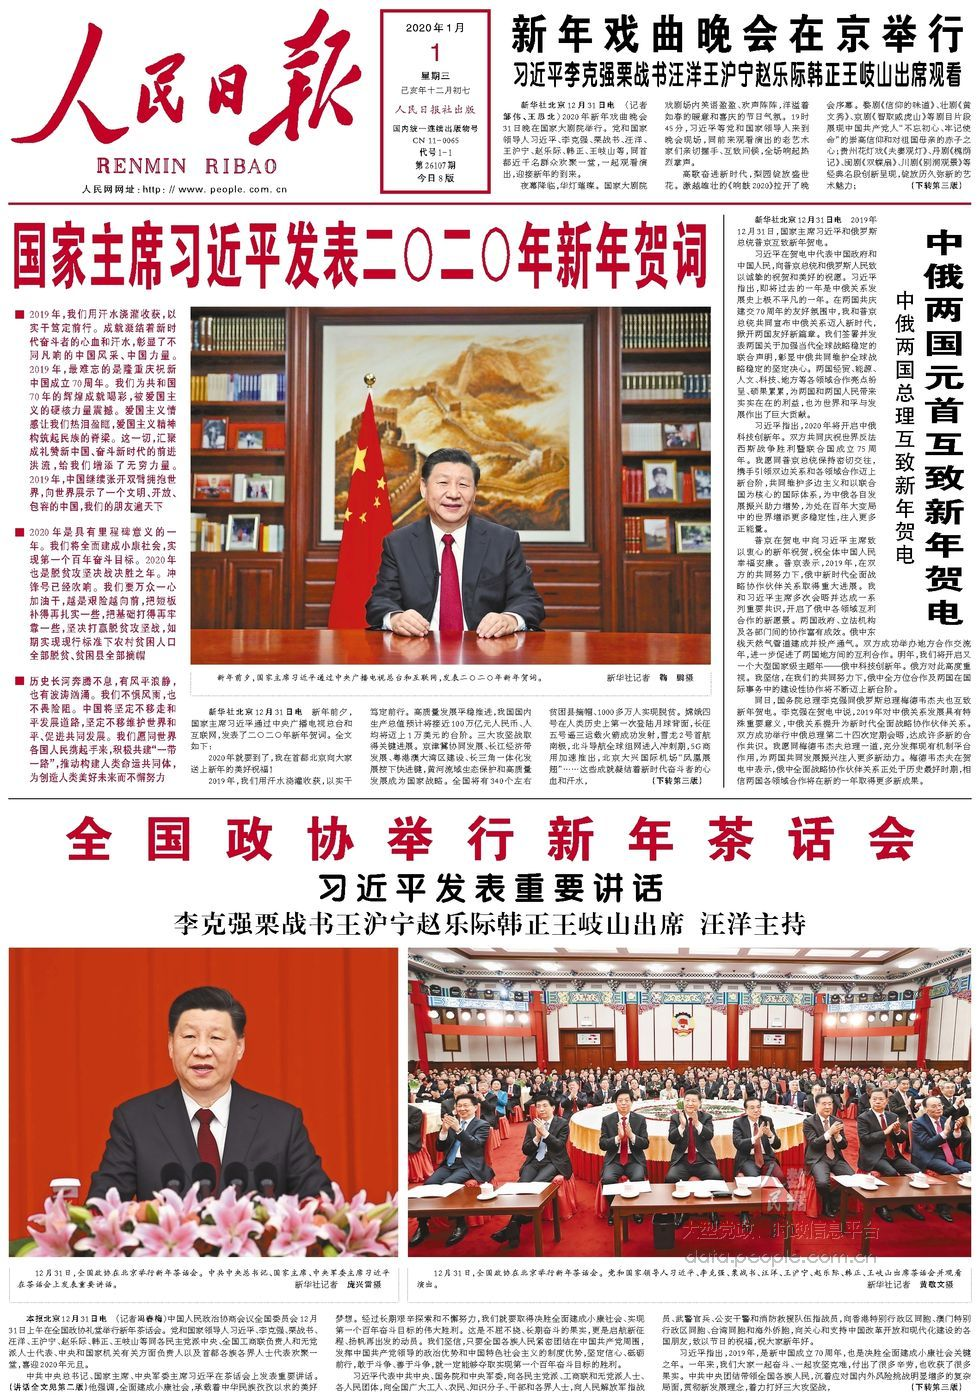pic: (186, 301, 715, 669), (403, 944, 975, 1260), (5, 944, 403, 1260)
